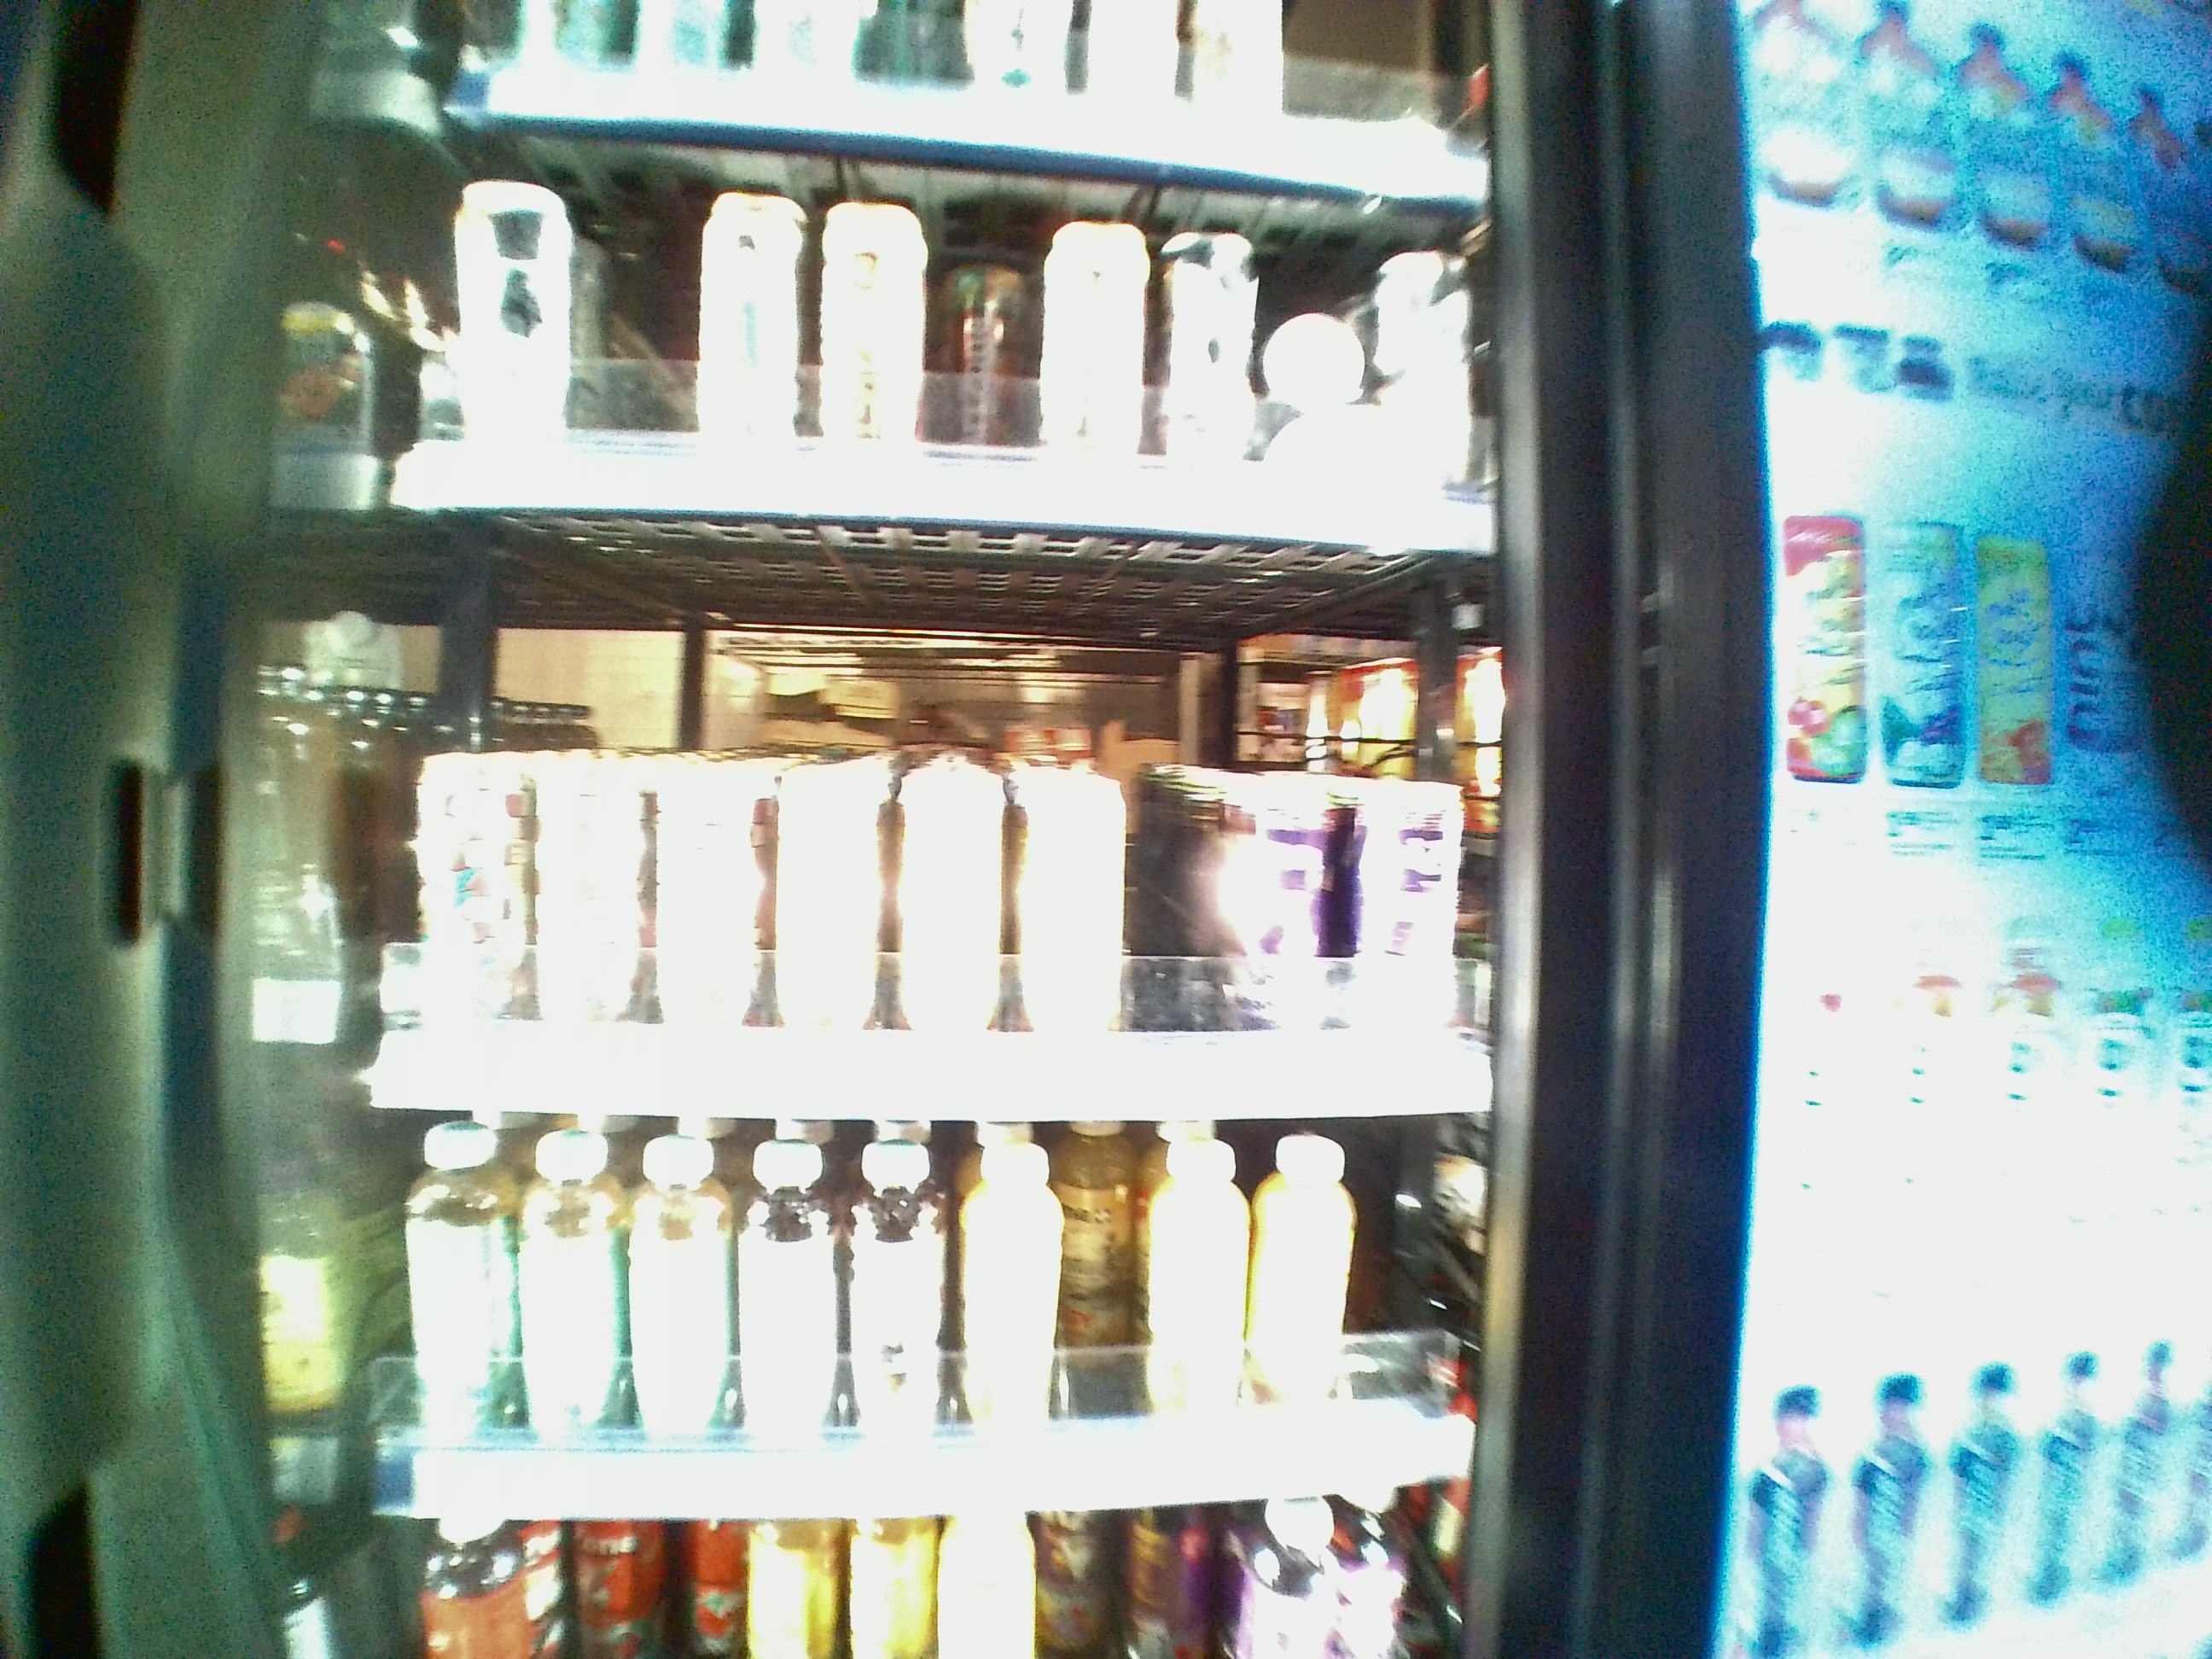shelf: (376, 512, 1489, 1119), (387, 1127, 1486, 1514)
